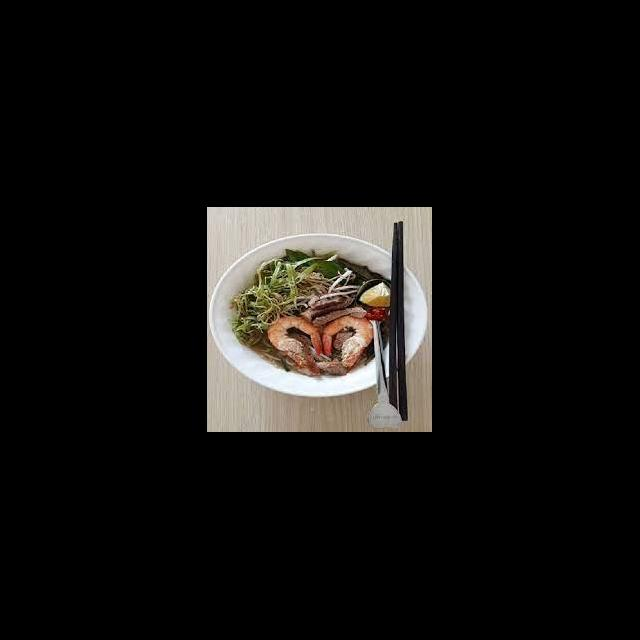tom: (322, 312, 376, 371), (266, 314, 324, 361)
